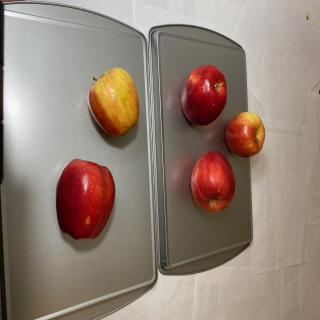Apple: (56, 158, 116, 240), (87, 67, 139, 137), (181, 64, 227, 126), (190, 150, 236, 212), (224, 111, 266, 158)
